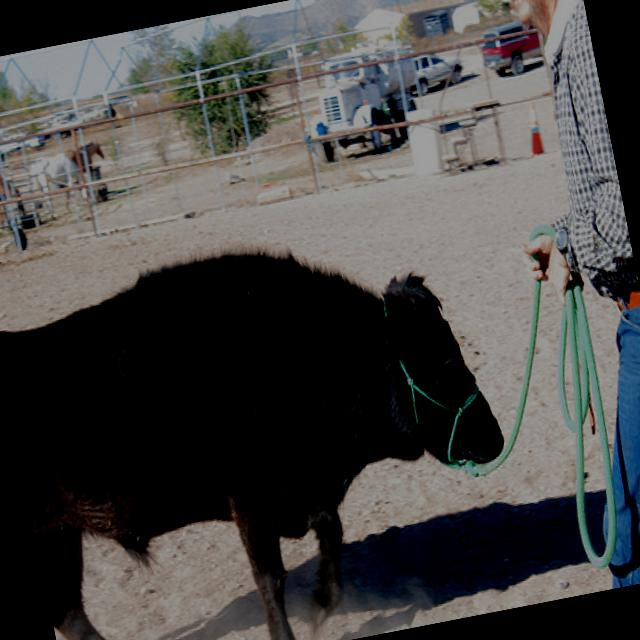Vehicle: (300, 41, 428, 164), (478, 15, 546, 80), (409, 48, 466, 98), (412, 50, 461, 96)
